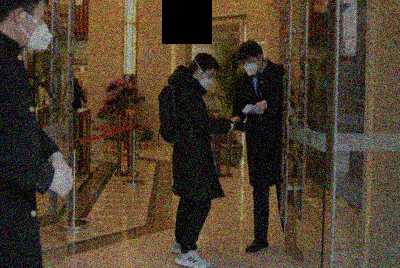with_mask: (23, 8, 52, 54), (241, 58, 259, 78), (199, 73, 214, 88), (39, 76, 44, 84)
